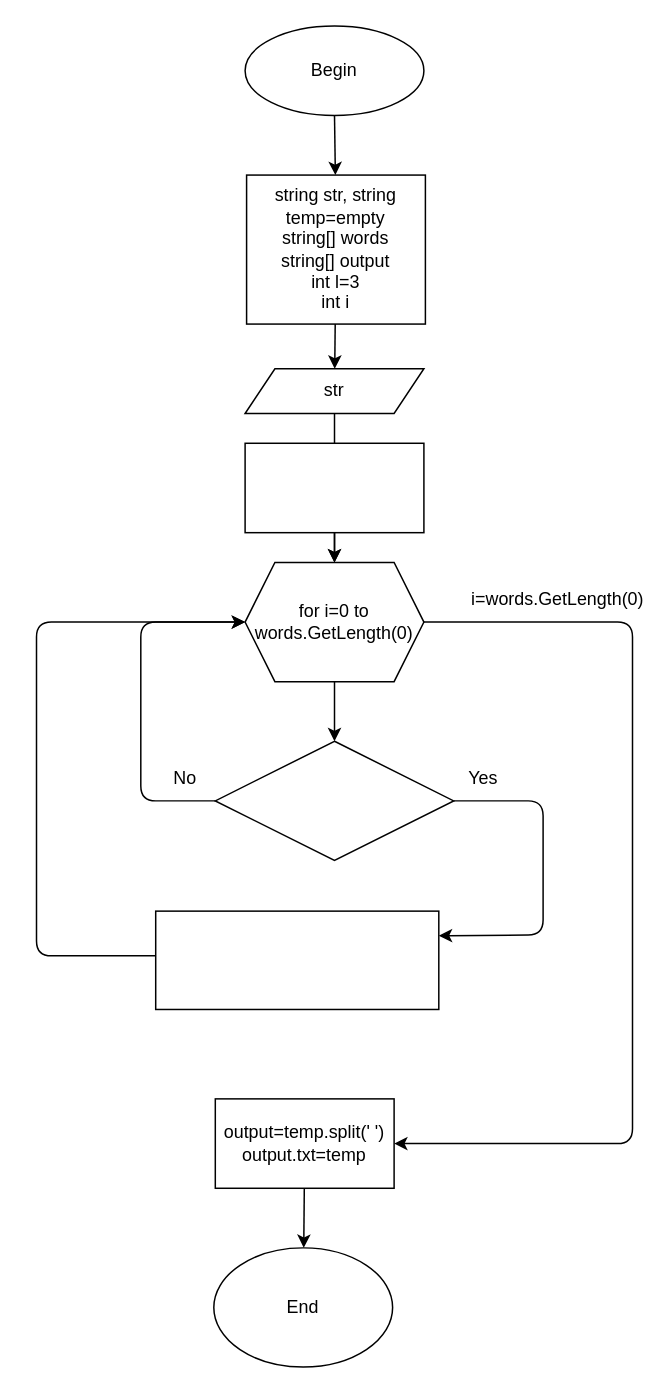
The diagram is 671 pixels wide and 1393 high, and some of its shapes have lost their labels. The centre of each missing label's shape, as x and y in pixels:
temp=temp+words[i]+" ": pixel 296 959
words=str.split(' '): pixel 334 487
words[i].Length<l: pixel 334 800
